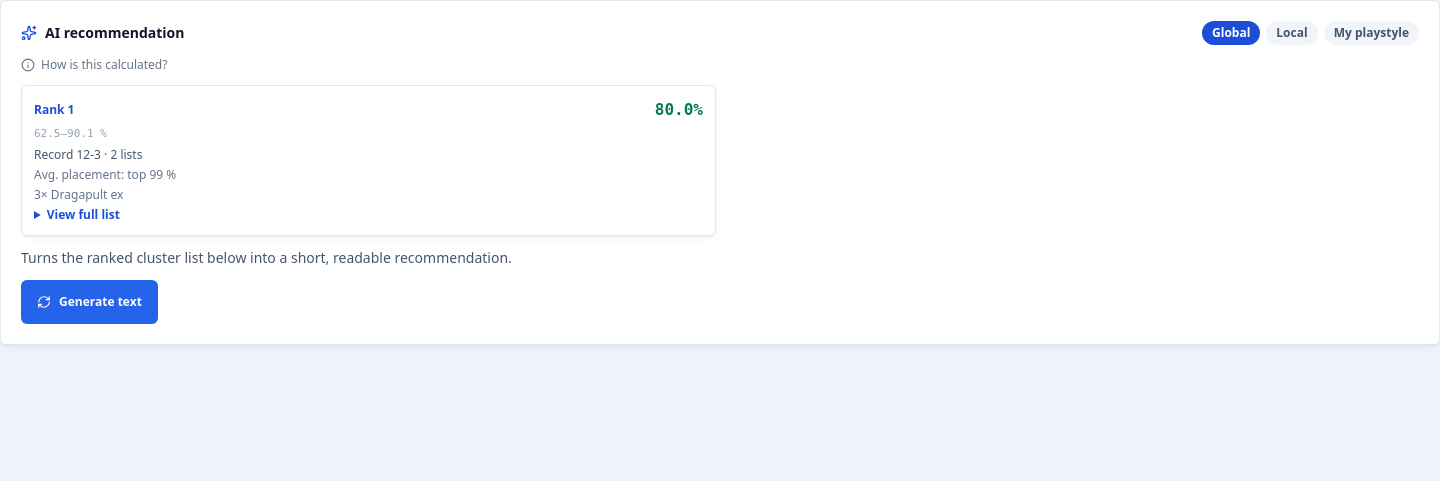
Scenario: ArchetypeRecommendationPanel — initial load › explains the ranking methodology behind a toggle
This screenshot has width=1440, height=481.
Click the heading with test id "archetype-recommendation-methodology-toggle" at (94, 65), box [21, 57, 167, 73]
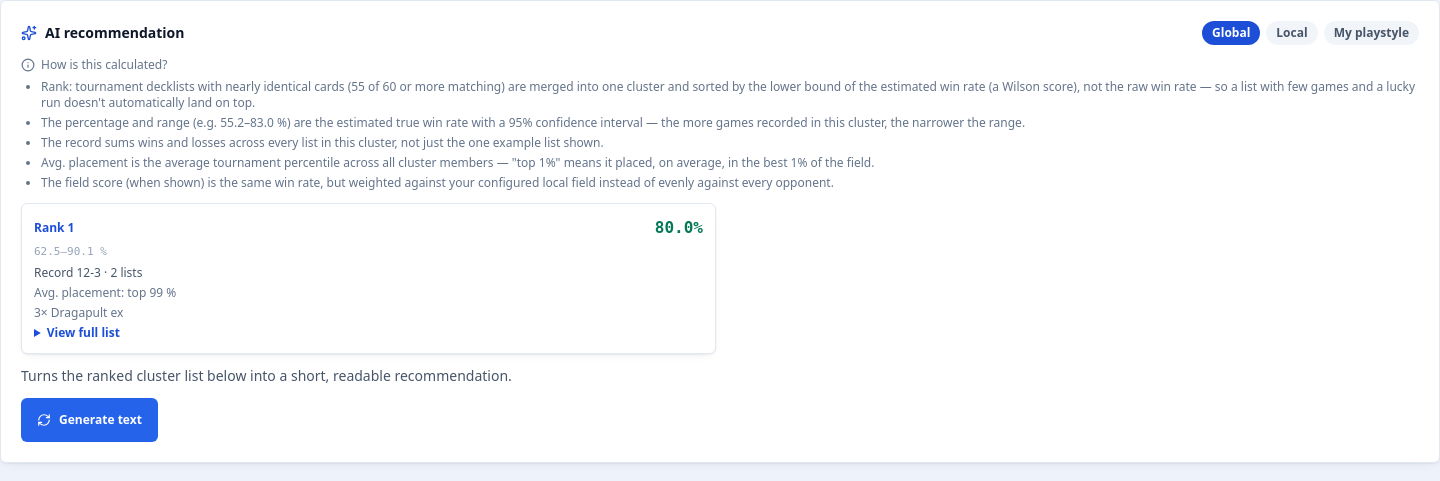
expect the list item "Wilson" is shown: met, box [41, 78, 1415, 111]
